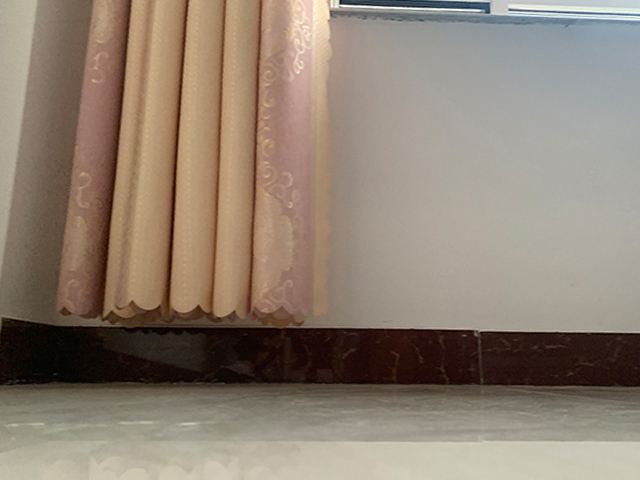curtain: (57, 1, 331, 331)
